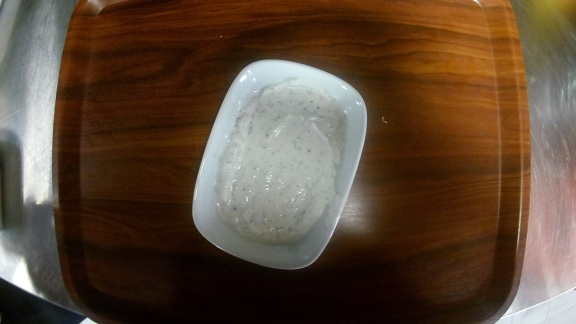haydari: (191, 58, 367, 270)
